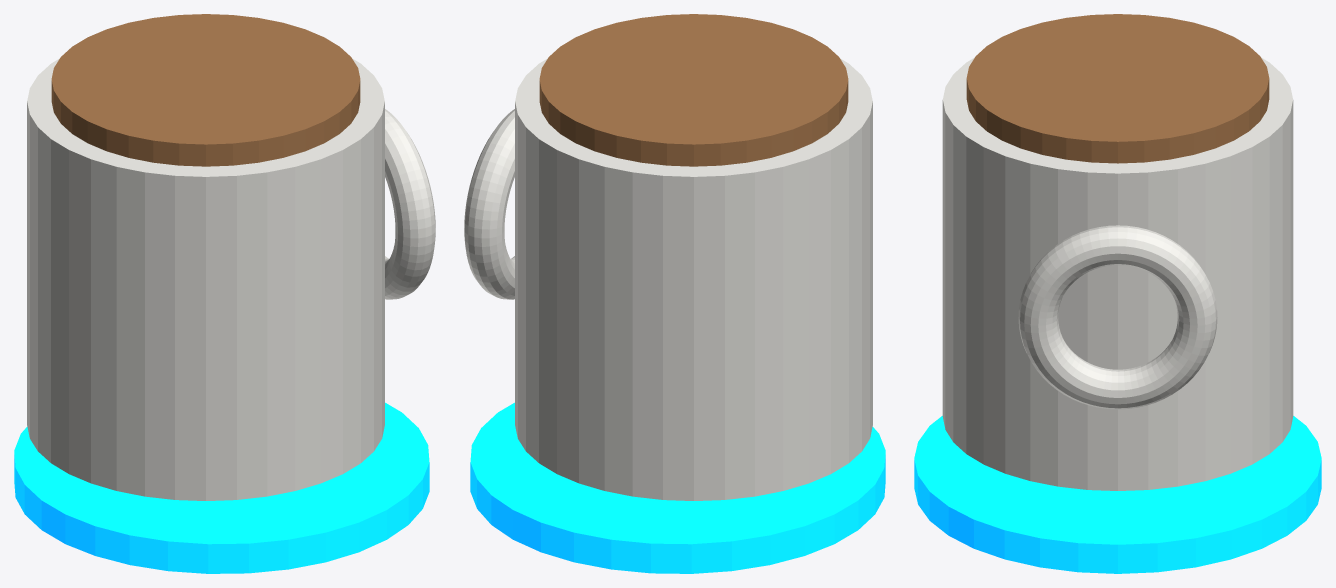
File: french_espresso.glb
3 renders of one model, left to right at view 1: azimuth 30°, elevation 25°; view 2: azimuth 150°, elevation 25°; view 3: azimuth 270°, elevation 25°, orthographic. The views are drawn at different scales.
Visible parts, largest first — view 1: 10_05_Popular_French_Espresso_part_01, 10_05_Popular_French_Espresso_part_03, 10_05_Popular_French_Espresso_ROOT_base, 10_05_Popular_French_Espresso_part_02; view 2: 10_05_Popular_French_Espresso_part_01, 10_05_Popular_French_Espresso_part_03, 10_05_Popular_French_Espresso_ROOT_base, 10_05_Popular_French_Espresso_part_02; view 3: 10_05_Popular_French_Espresso_part_01, 10_05_Popular_French_Espresso_part_03, 10_05_Popular_French_Espresso_ROOT_base, 10_05_Popular_French_Espresso_part_02.
Boxes of the visible parts, <box> form: 10_05_Popular_French_Espresso_part_01: <box>27,58,384,500</box>; 10_05_Popular_French_Espresso_part_03: <box>51,14,360,166</box>; 10_05_Popular_French_Espresso_ROOT_base: <box>14,402,429,573</box>; 10_05_Popular_French_Espresso_part_02: <box>385,109,435,299</box>; 10_05_Popular_French_Espresso_part_01: <box>515,58,872,500</box>; 10_05_Popular_French_Espresso_part_03: <box>539,14,848,166</box>; 10_05_Popular_French_Espresso_ROOT_base: <box>470,402,885,573</box>; 10_05_Popular_French_Espresso_part_02: <box>464,109,514,299</box>; 10_05_Popular_French_Espresso_part_01: <box>942,57,1293,490</box>; 10_05_Popular_French_Espresso_part_03: <box>966,14,1269,163</box>; 10_05_Popular_French_Espresso_ROOT_base: <box>914,416,1321,573</box>; 10_05_Popular_French_Espresso_part_02: <box>1018,225,1217,409</box>.
Size of the model in its own units: 0.76 by 0.8277 by 0.76.
